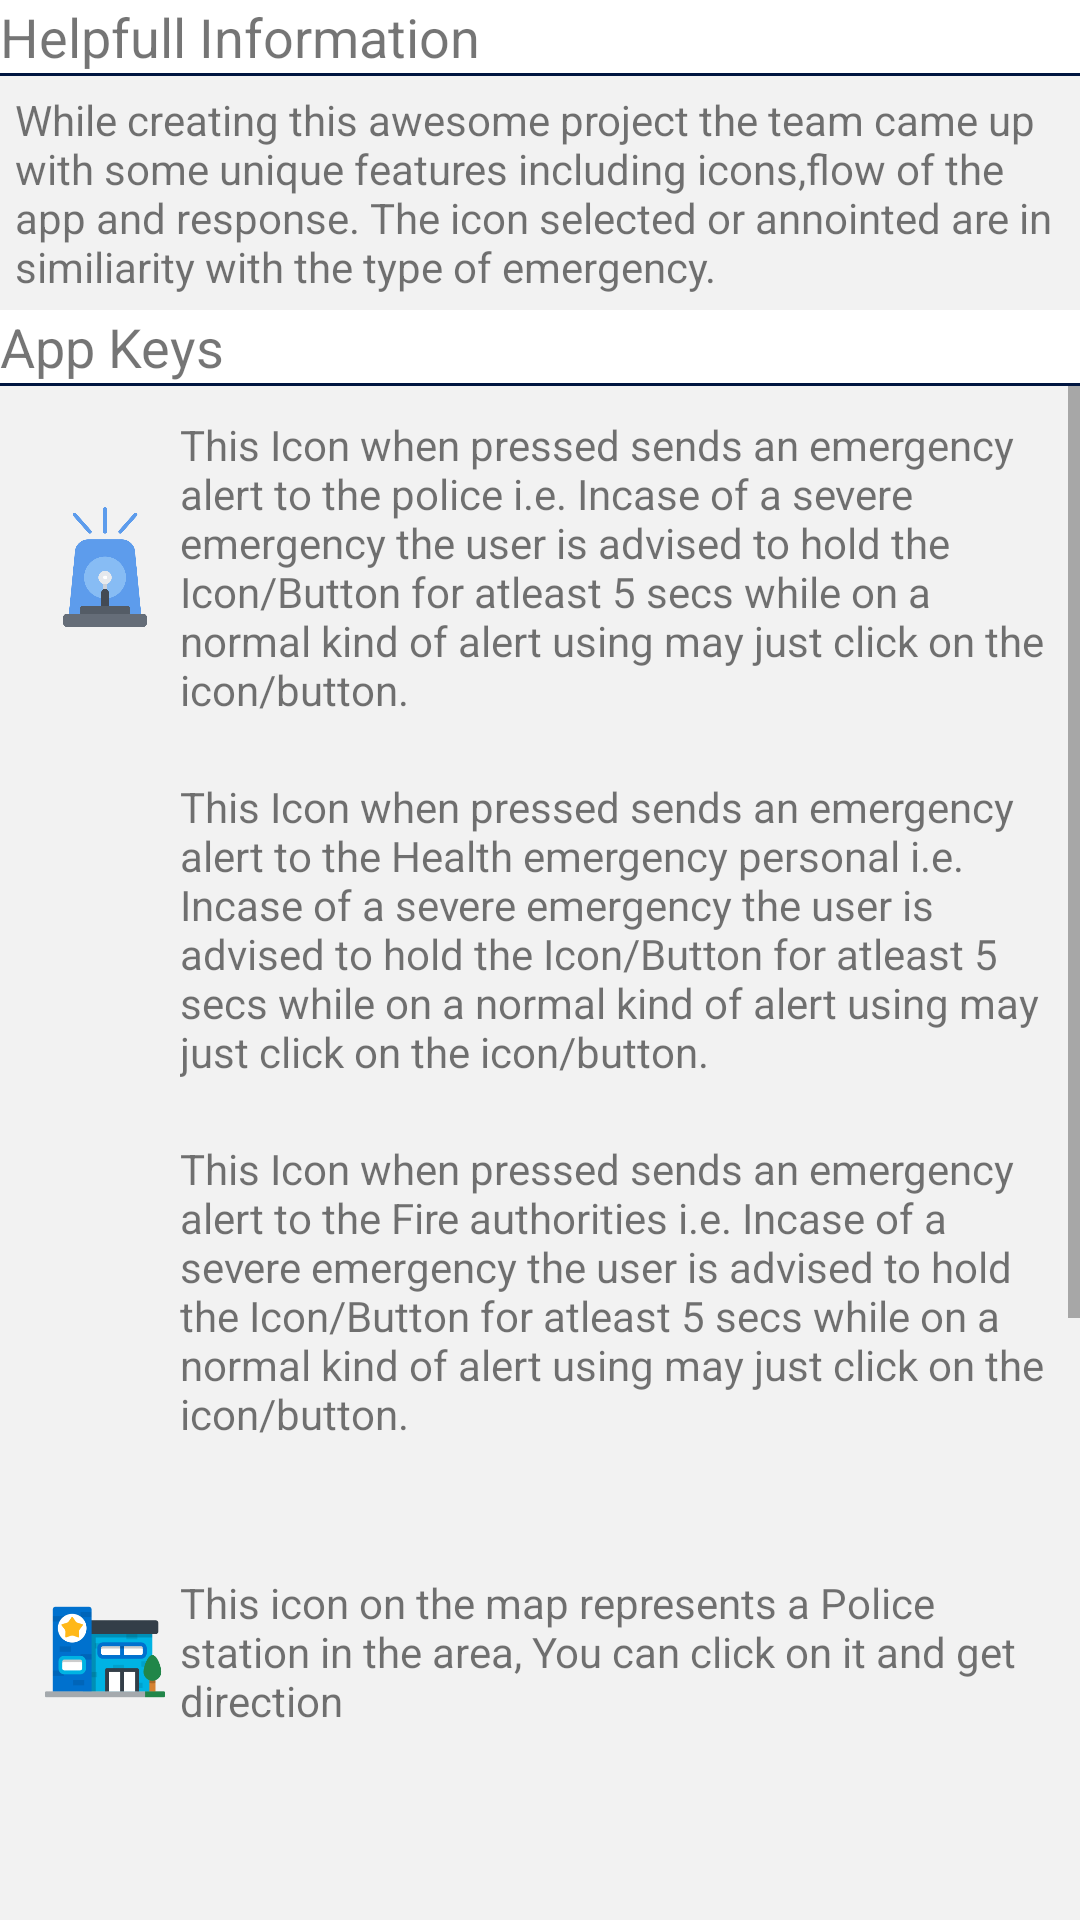

Where icons sit on this 1080 x 1920 app screen, as (x1, y1, x2, y2):
alarm: (63, 507, 147, 627)
